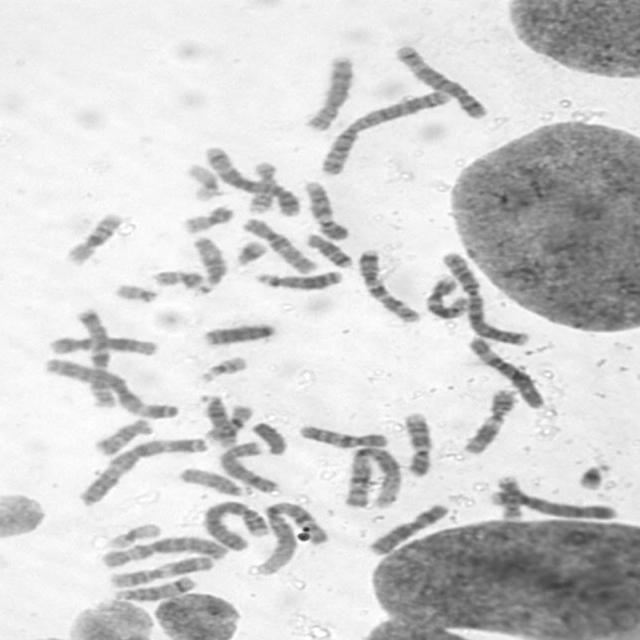A1: (247, 496, 330, 576), (337, 443, 405, 510)
A2: (313, 84, 454, 176), (436, 247, 532, 347)
A3: (71, 432, 210, 507), (37, 352, 180, 421)
B4: (484, 485, 620, 521), (197, 497, 271, 552)
B5: (387, 40, 491, 120), (197, 140, 304, 217)
C10: (235, 212, 319, 274), (291, 419, 391, 450)
C11: (456, 384, 519, 455), (101, 550, 215, 588)
C12: (42, 330, 161, 357), (418, 271, 471, 320)
C6: (460, 331, 548, 410), (96, 531, 232, 569)
C7: (351, 244, 424, 324), (67, 302, 118, 410)
C8: (298, 50, 356, 132), (211, 436, 281, 494)
C9: (297, 175, 351, 242), (396, 407, 435, 478)
D13: (195, 317, 279, 348), (249, 265, 344, 291)
D14: (193, 389, 240, 448), (107, 572, 197, 602)
D15: (171, 462, 254, 497), (185, 232, 230, 296)
E16: (57, 207, 126, 266), (199, 400, 255, 444)
E17: (242, 157, 280, 215), (489, 472, 526, 522)
E18: (86, 413, 155, 457), (298, 228, 355, 268)
F19: (98, 518, 163, 550), (178, 158, 222, 202)
F20: (174, 200, 237, 234), (146, 265, 207, 290)
G21: (570, 456, 615, 492), (227, 235, 270, 267)
G22: (189, 351, 249, 384), (107, 278, 162, 304)
X: (361, 498, 451, 556)
Y: (245, 416, 290, 456)
